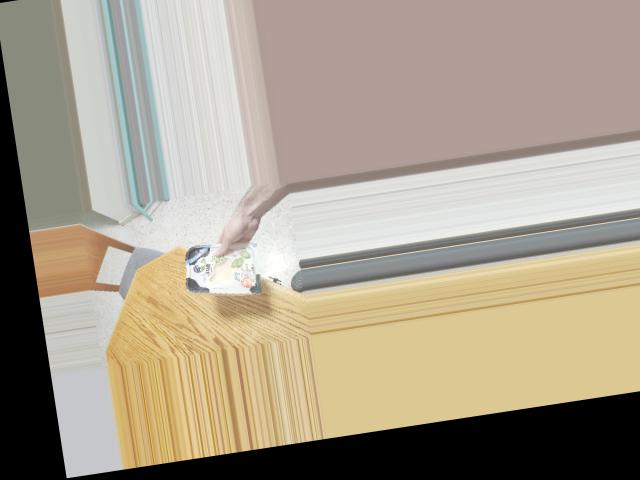cheese: (181, 227, 264, 304)
